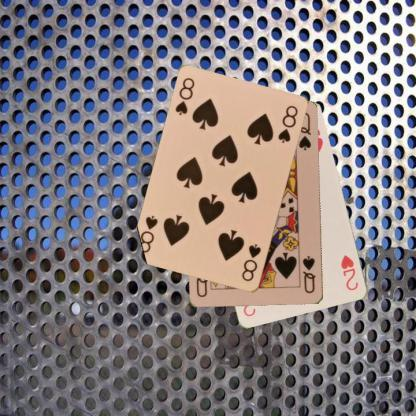2h: (338, 252, 360, 292)
8s: (239, 242, 263, 284), (173, 75, 196, 117)
Qs: (300, 254, 318, 294)
